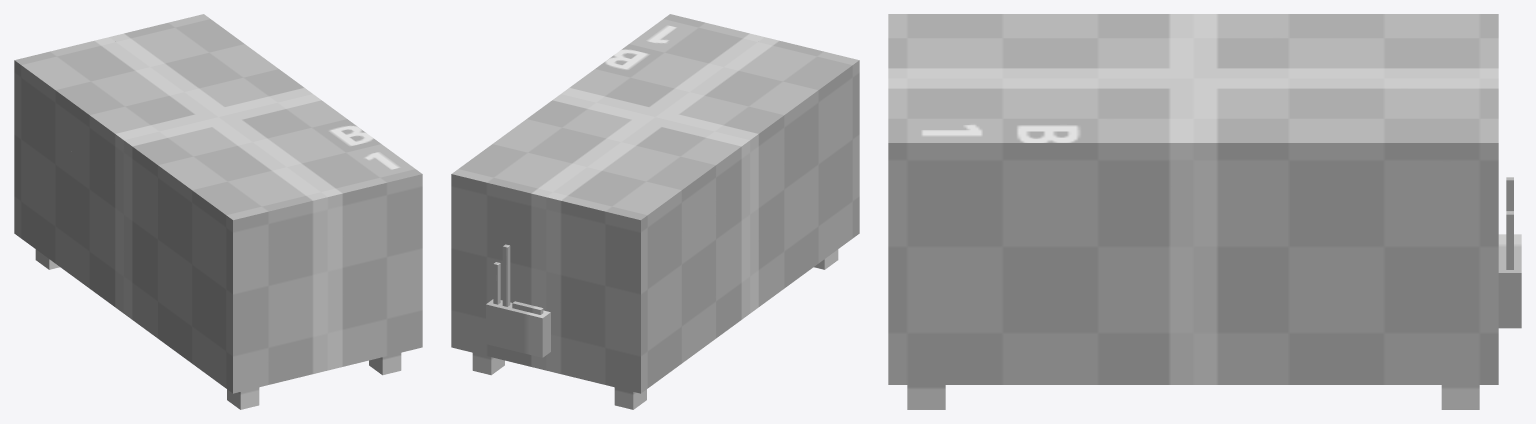
File: ToolboxSmall.fbx
3 views of the same model, side by side, from view 1: azimuth 30°, elevation 25°; view 2: azimuth 150°, elevation 25°; view 3: azimuth 270°, elevation 25° (orthographic). The views are drawn at different scales.
Parts seen in each view (by area): view 1: ToolboxSmall; view 2: ToolboxSmall; view 3: ToolboxSmall.
Boxes of the visible parts, x1=… form: ToolboxSmall: x1=14, y1=14, x2=422, y2=409; ToolboxSmall: x1=451, y1=14, x2=859, y2=409; ToolboxSmall: x1=888, y1=14, x2=1521, y2=409.
Bounding box in the file's own units: 40 × 40 × 83.
